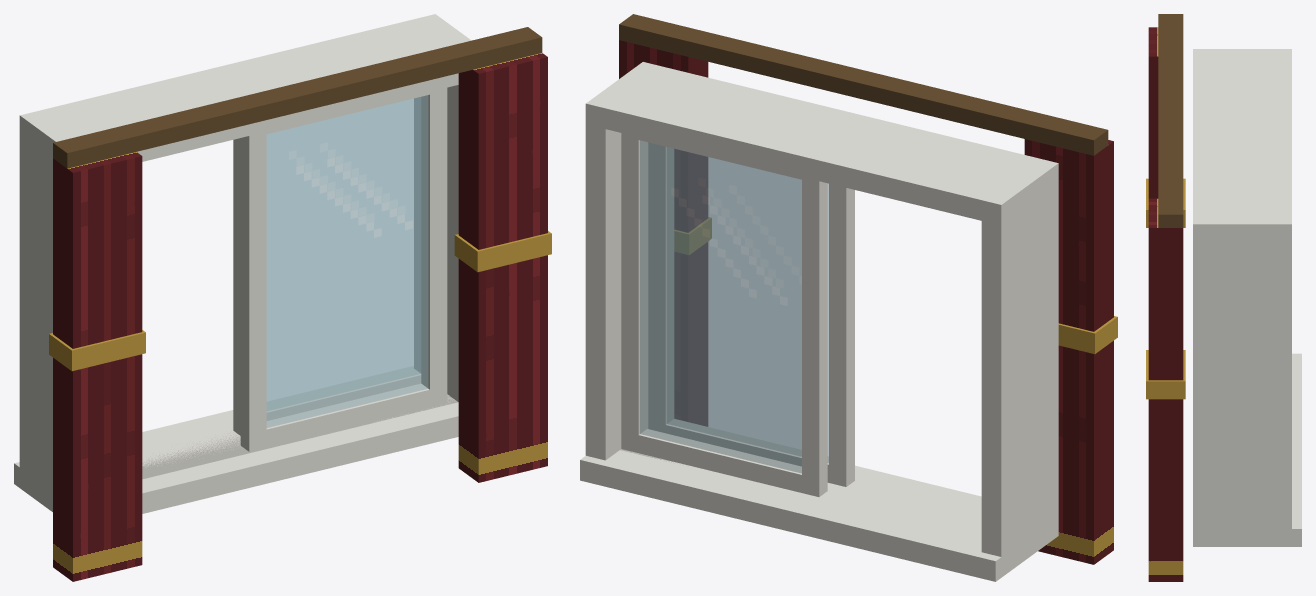
Rendered from t_window_open.glb.
The picture shows the model from 3 angles, left to right: view 1: azimuth 30°, elevation 25°; view 2: azimuth 150°, elevation 25°; view 3: azimuth 270°, elevation 25°; orthographic projection. The views are drawn at different scales.
Parts seen in each view (by area): view 1: block_slider-glass, block_fixed-glass, block_curtain-1, block_curtain1, block_lintel, block_sill, block_rod, block_stile-1, block_slider-l, block_slider-r, block_slider-bottom, block_stile1 (+7 smaller); view 2: block_fixed-glass, block_slider-glass, block_lintel, block_stile-1, block_sill, block_curtain-1, block_rod, block_stile1, block_curtain1, block_fixed-r, block_fixed-l, block_slider-l (+6 smaller); view 3: block_stile1, block_lintel, block_curtain1, block_rod, block_sill, block_curtain-1, block_tie1, block_stile-1, block_tie-1.
Part boxes in pixels (box(x1,y1,x2,y2)): block_slider-glass: box(266, 95, 428, 427); block_fixed-glass: box(267, 97, 420, 410); block_curtain-1: box(53, 152, 142, 581); block_curtain1: box(458, 53, 547, 482); block_lintel: box(19, 14, 471, 161); block_sill: box(14, 366, 458, 513); block_rod: box(53, 27, 542, 168); block_stile-1: box(19, 113, 74, 510); block_slider-l: box(240, 132, 266, 450); block_slider-r: box(421, 90, 447, 407); block_slider-bottom: box(240, 383, 447, 451); block_stile1: box(417, 14, 470, 401); block_fixed-glass: box(640, 140, 801, 473); block_slider-glass: box(667, 147, 828, 463); block_lintel: box(585, 62, 1058, 225); block_stile-1: box(981, 160, 1058, 576); block_sill: box(580, 450, 1058, 581); block_curtain-1: box(1024, 139, 1113, 564); block_rod: box(619, 14, 1108, 155); block_stile1: box(585, 62, 660, 460); block_curtain1: box(619, 40, 708, 426); block_fixed-r: box(621, 134, 647, 452); block_fixed-l: box(802, 177, 827, 496); block_slider-l: box(829, 183, 854, 486); block_stile1: box(1193, 216, 1291, 546); block_lintel: box(1193, 49, 1291, 242); block_curtain1: box(1148, 198, 1183, 581); block_rod: box(1158, 14, 1183, 227); block_sill: box(1193, 353, 1301, 546); block_curtain-1: box(1148, 27, 1158, 198); block_tie1: box(1146, 350, 1185, 399); block_stile-1: box(1193, 49, 1291, 57); block_tie-1: box(1146, 178, 1185, 227).
Size of the model in its own units: 0.97 by 0.82 by 0.315.
2 materials, 2 textured.
